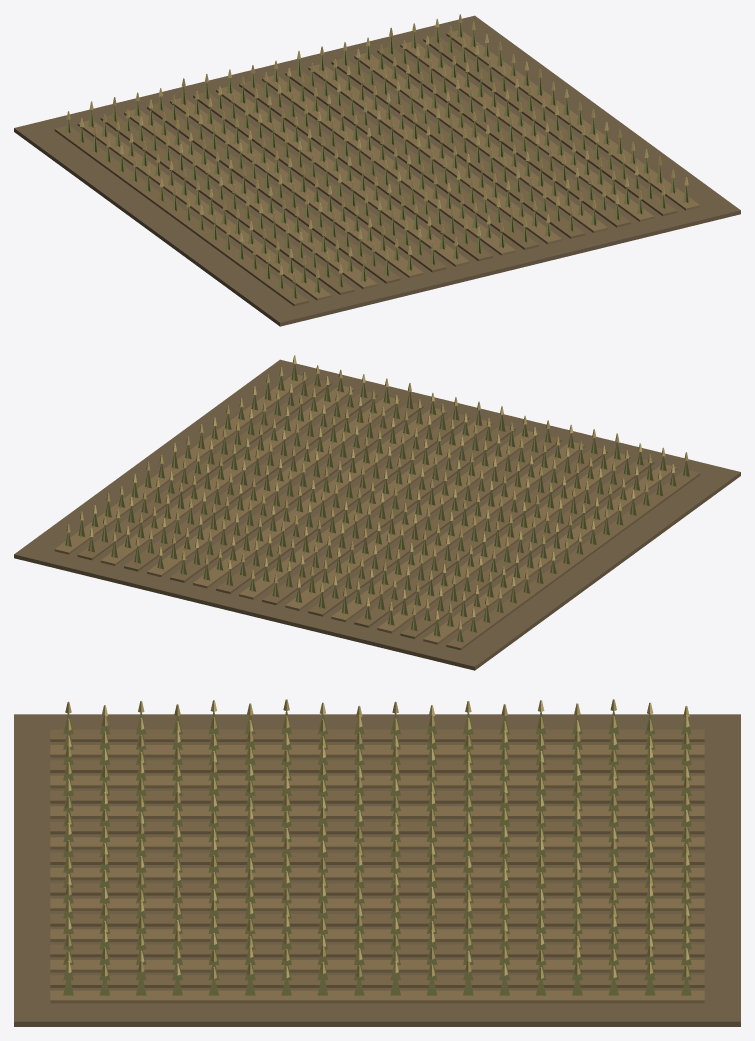
The model's file is wheatfield.glb.
3 views of the same model, one above another, from view 1: azimuth 30°, elevation 25°; view 2: azimuth 150°, elevation 25°; view 3: azimuth 270°, elevation 25° (orthographic). The views are drawn at different scales.
Visible parts, largest first — view 1: wheatfield; view 2: wheatfield; view 3: wheatfield.
Boxes of the visible parts, box(x1,y1,x2,y2) form: wheatfield: box(14, 14, 740, 326); wheatfield: box(14, 355, 740, 670); wheatfield: box(14, 699, 740, 1026).
Bounding box in the file's own units: 20 × 1.31 × 20.
